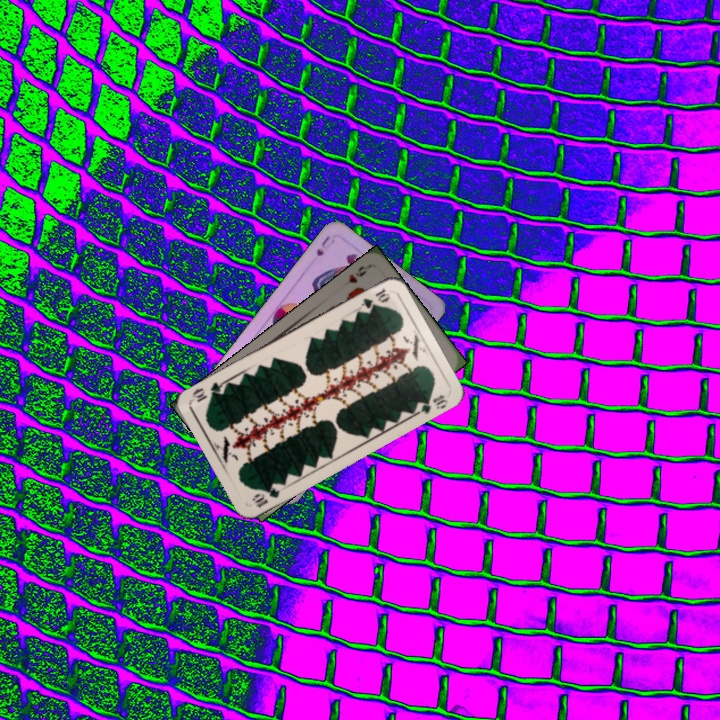G10: (355, 284, 393, 312), (248, 482, 282, 510)
H9: (344, 261, 372, 286)
SU: (312, 231, 336, 259)
